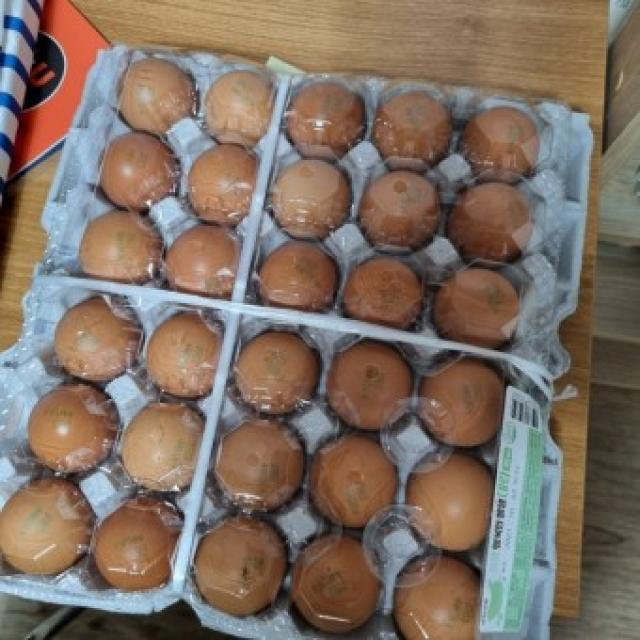eggs: (187, 512, 291, 624), (284, 531, 385, 636), (403, 448, 497, 553), (2, 479, 97, 582), (112, 394, 202, 498), (25, 382, 121, 478), (90, 497, 188, 589), (229, 325, 326, 417), (309, 431, 400, 529), (211, 418, 308, 508), (324, 338, 416, 432), (52, 295, 146, 385), (391, 554, 484, 640), (418, 361, 511, 447), (446, 180, 533, 267), (280, 76, 370, 160), (353, 170, 440, 256), (270, 156, 358, 239), (94, 132, 182, 214), (458, 104, 543, 188), (145, 310, 227, 396), (157, 222, 247, 298), (432, 273, 522, 347), (374, 89, 453, 172), (77, 210, 164, 284), (251, 236, 338, 309), (117, 60, 200, 134), (185, 144, 260, 223), (338, 256, 418, 330), (204, 73, 275, 152)
